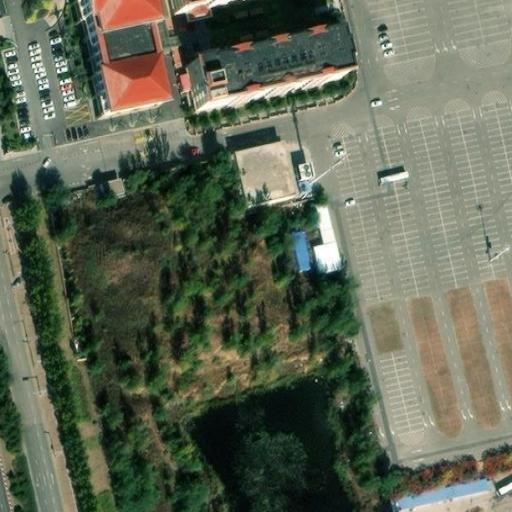building: (176, 37, 329, 111), (218, 146, 282, 217), (393, 472, 491, 511), (307, 235, 344, 275), (308, 196, 336, 242), (287, 225, 312, 270), (104, 174, 127, 200)
